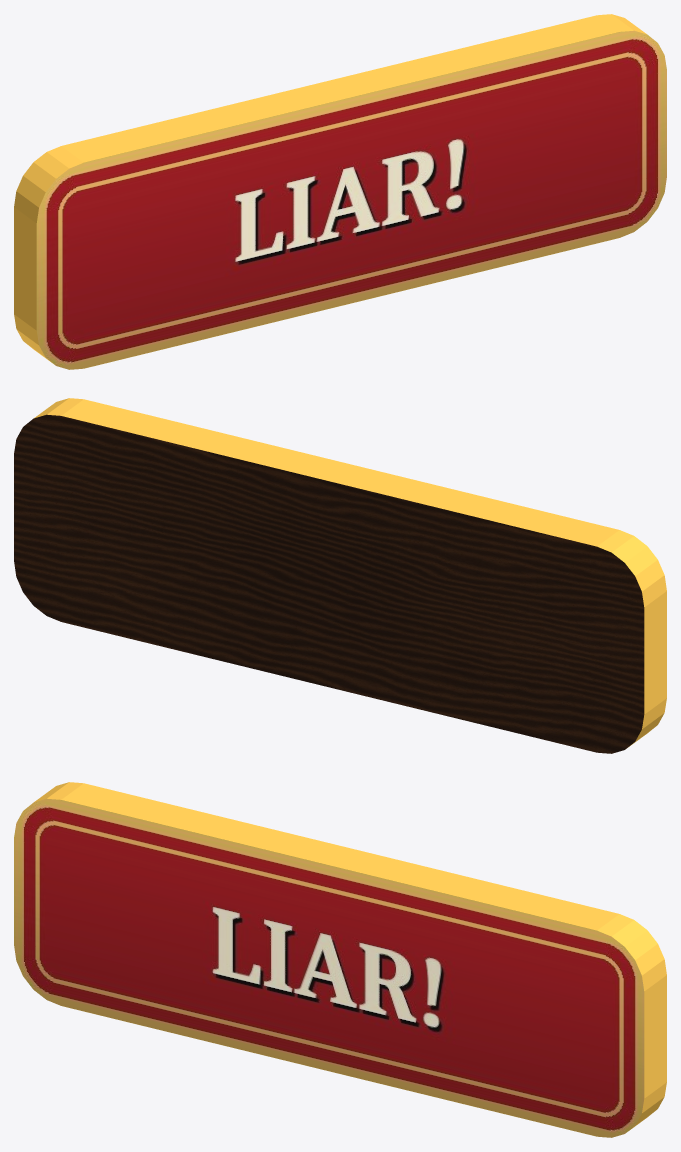
The model's file is lb4_btn_liar.glb.
3 renders of one model, top to bottom at view 1: azimuth 30°, elevation 25°; view 2: azimuth 150°, elevation 25°; view 3: azimuth 330°, elevation 25°, orthographic.
Visible parts, largest first — view 1: lb4_btn_liar; view 2: lb4_btn_liar; view 3: lb4_btn_liar.
Part boxes in pixels (x1,y1,x2,y2): lb4_btn_liar: [14, 14, 666, 369]; lb4_btn_liar: [14, 398, 666, 753]; lb4_btn_liar: [14, 782, 666, 1137].
Bounding box in the file's own units: 0.8 × 0.25 × 0.05.
3 materials, 2 textured.
